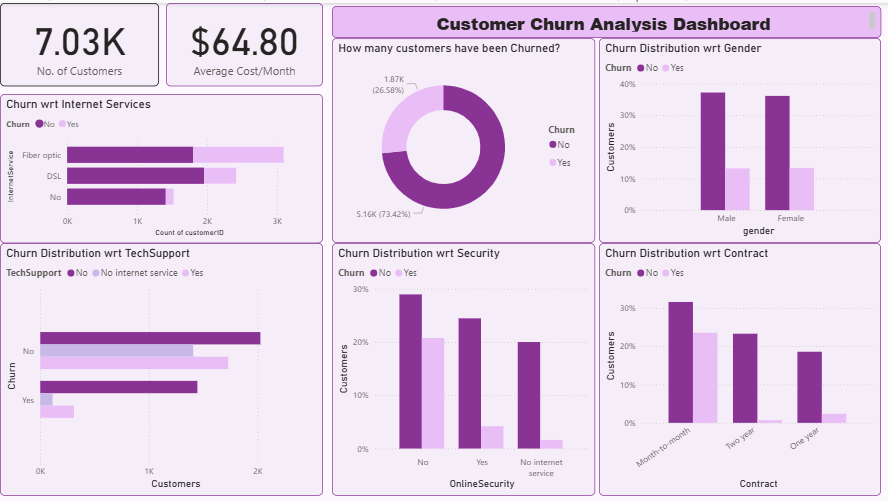

The dashboard page shown, as its layout file describes it:
{"tool":"powerbi","page":{"name":"Page 1","canvas":[1280,720],"ordinal":0},"visuals":[{"type":"card","fields":{"Values":["CountNonNull(WA_Fn-UseC_-Telco-Customer-Churn.customerID)"]},"box":[0,0,229,119.5],"z":0},{"type":"donutChart","title":"How many customers have been Churned?","fields":{"Category":["WA_Fn-UseC_-Telco-Customer-Churn.Churn"],"Y":["CountNonNull(WA_Fn-UseC_-Telco-Customer-Churn.Churn)"]},"box":[478.1,50.4,378.7,295.2],"z":1000},{"type":"clusteredColumnChart","title":"Churn Distribution wrt Gender","fields":{"Category":["WA_Fn-UseC_-Telco-Customer-Churn.gender"],"Series":["WA_Fn-UseC_-Telco-Customer-Churn.Churn"],"Y":["CountNonNull(WA_Fn-UseC_-Telco-Customer-Churn.customerID)"]},"box":[862.6,50.4,406.1,295.2],"z":2000},{"type":"card","fields":{"Values":["Avg(WA_Fn-UseC_-Telco-Customer-Churn.Average Cost/month)"]},"box":[239,0,226.1,119.5],"z":4000},{"type":"clusteredColumnChart","title":"Churn Distribution wrt Contract","fields":{"Series":["WA_Fn-UseC_-Telco-Customer-Churn.Churn"],"Y":["CountNonNull(WA_Fn-UseC_-Telco-Customer-Churn.customerID)"],"Category":["WA_Fn-UseC_-Telco-Customer-Churn.Contract"]},"box":[862.6,345.6,406.1,364.3],"z":5000},{"type":"clusteredColumnChart","title":"Churn Distribution wrt Security","fields":{"Series":["WA_Fn-UseC_-Telco-Customer-Churn.Churn"],"Y":["CountNonNull(WA_Fn-UseC_-Telco-Customer-Churn.customerID)"],"Category":["WA_Fn-UseC_-Telco-Customer-Churn.OnlineSecurity"]},"box":[478.1,345.6,378.7,364.3],"z":5001},{"type":"clusteredBarChart","title":"Churn Distribution wrt TechSupport","fields":{"Y":["CountNonNull(WA_Fn-UseC_-Telco-Customer-Churn.customerID)"],"Category":["WA_Fn-UseC_-Telco-Customer-Churn.Churn"],"Series":["WA_Fn-UseC_-Telco-Customer-Churn.TechSupport"]},"box":[0,345.6,465.1,364.3],"z":5002},{"type":"barChart","title":"Churn wrt Internet Services","fields":{"Category":["WA_Fn-UseC_-Telco-Customer-Churn.InternetService"],"Y":["CountNonNull(WA_Fn-UseC_-Telco-Customer-Churn.customerID)"],"Series":["WA_Fn-UseC_-Telco-Customer-Churn.Churn"]},"box":[0,131,465.1,214.6],"z":5003},{"type":"textbox","box":[478.1,4.3,790.6,46.1],"z":5005}]}

Visuals, with their boxes in screenshot pixels (x1, y1, x2, y2), scaled from the page's 1280x720 canvas onto the 888x501 screenshot:
card - CountNonNull(WA_Fn-UseC_-Telco-Customer-Churn.customerID): <region>0, 0, 159, 83</region>
"How many customers have been Churned?" donutChart: <region>332, 35, 594, 240</region>
"Churn Distribution wrt Gender" clusteredColumnChart: <region>598, 35, 880, 240</region>
card - Avg(WA_Fn-UseC_-Telco-Customer-Churn.Average Cost/month): <region>166, 0, 323, 83</region>
"Churn Distribution wrt Contract" clusteredColumnChart: <region>598, 240, 880, 494</region>
"Churn Distribution wrt Security" clusteredColumnChart: <region>332, 240, 594, 494</region>
"Churn Distribution wrt TechSupport" clusteredBarChart: <region>0, 240, 323, 494</region>
"Churn wrt Internet Services" barChart: <region>0, 91, 323, 240</region>
textbox: <region>332, 3, 880, 35</region>
